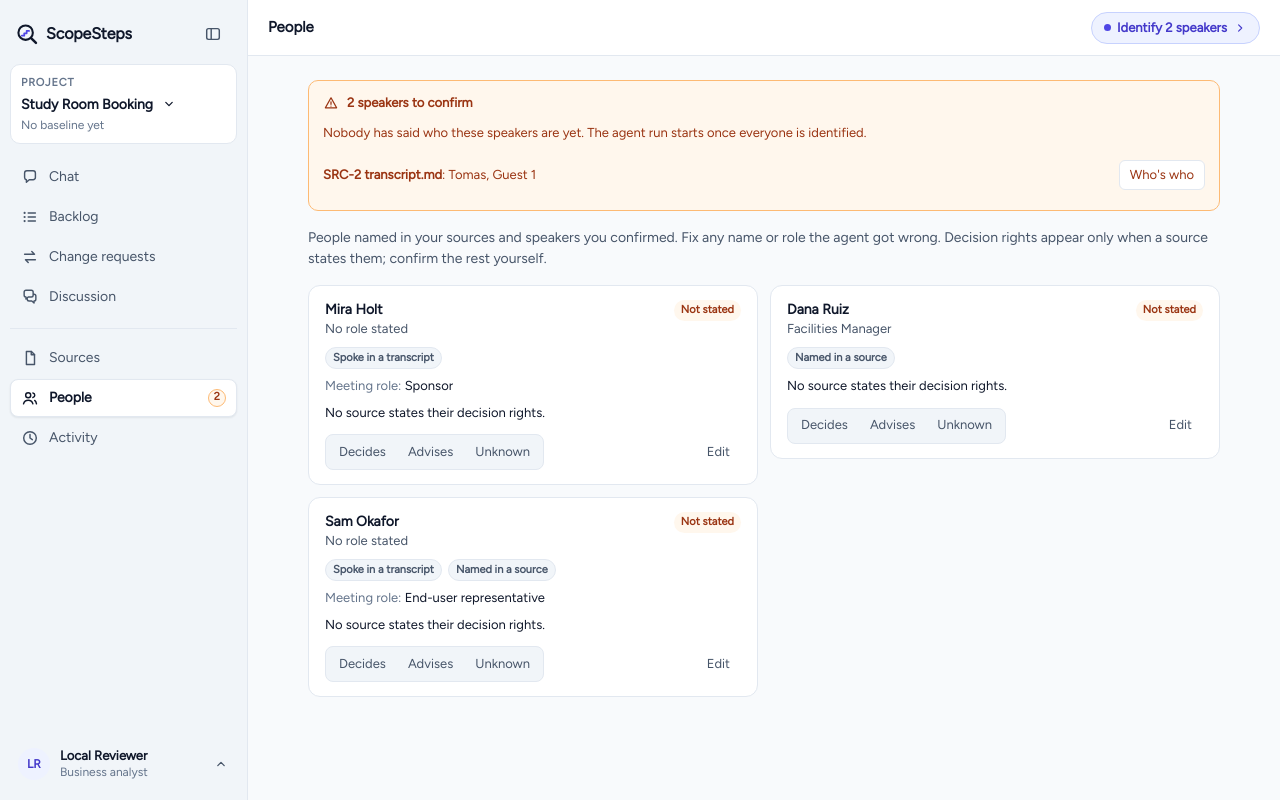
Scenario: People and Sources with transcript speakers › drops the badge once every speaker is confirmed or marked not a person
The width and height of the screenshot is (1280, 800).
Check: the link named "People 2 speakers to confirm" is shown, box [10, 378, 237, 416]
Click the button with aria-label "Who's who in SRC-2 transcript.md".
click(1162, 175)  # box [1119, 160, 1205, 190]
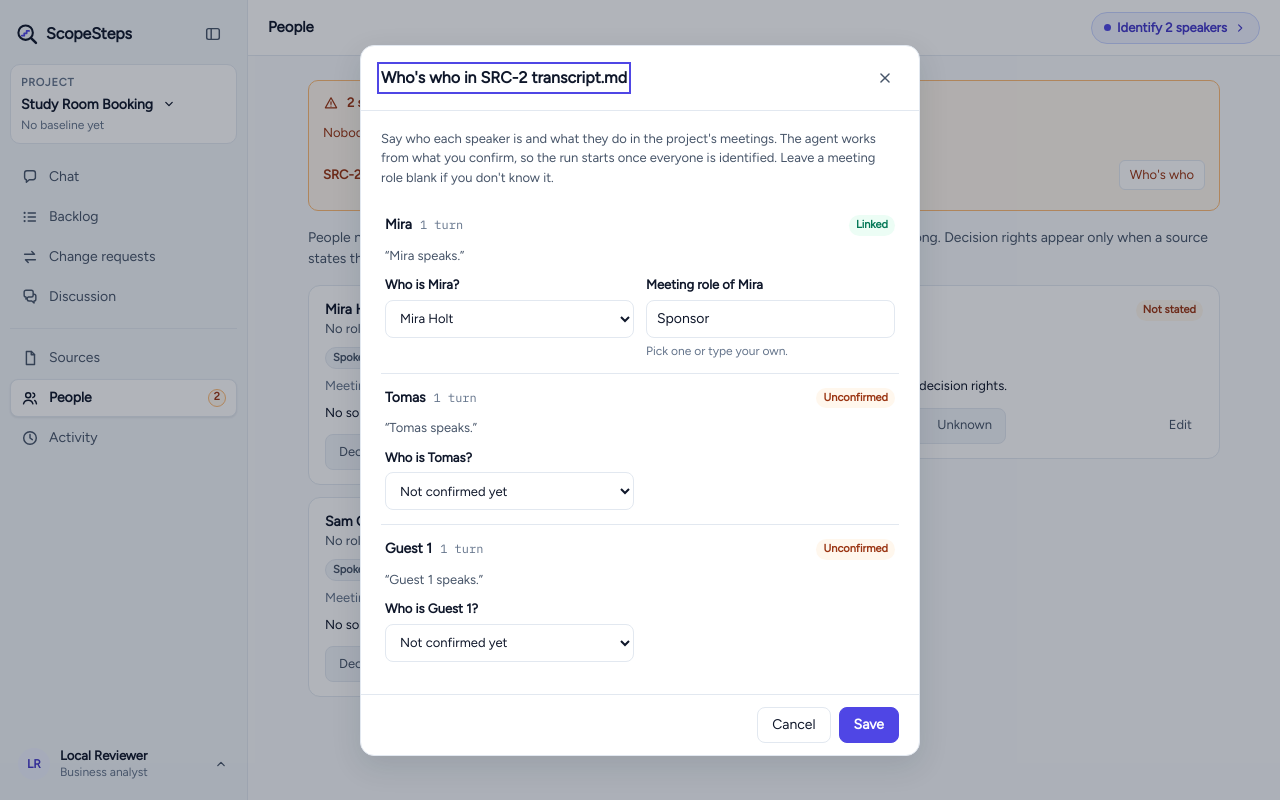
Select "Not a person" in the dropdown labelled "Who is Tomas?" at [510, 491], box [385, 472, 634, 510]
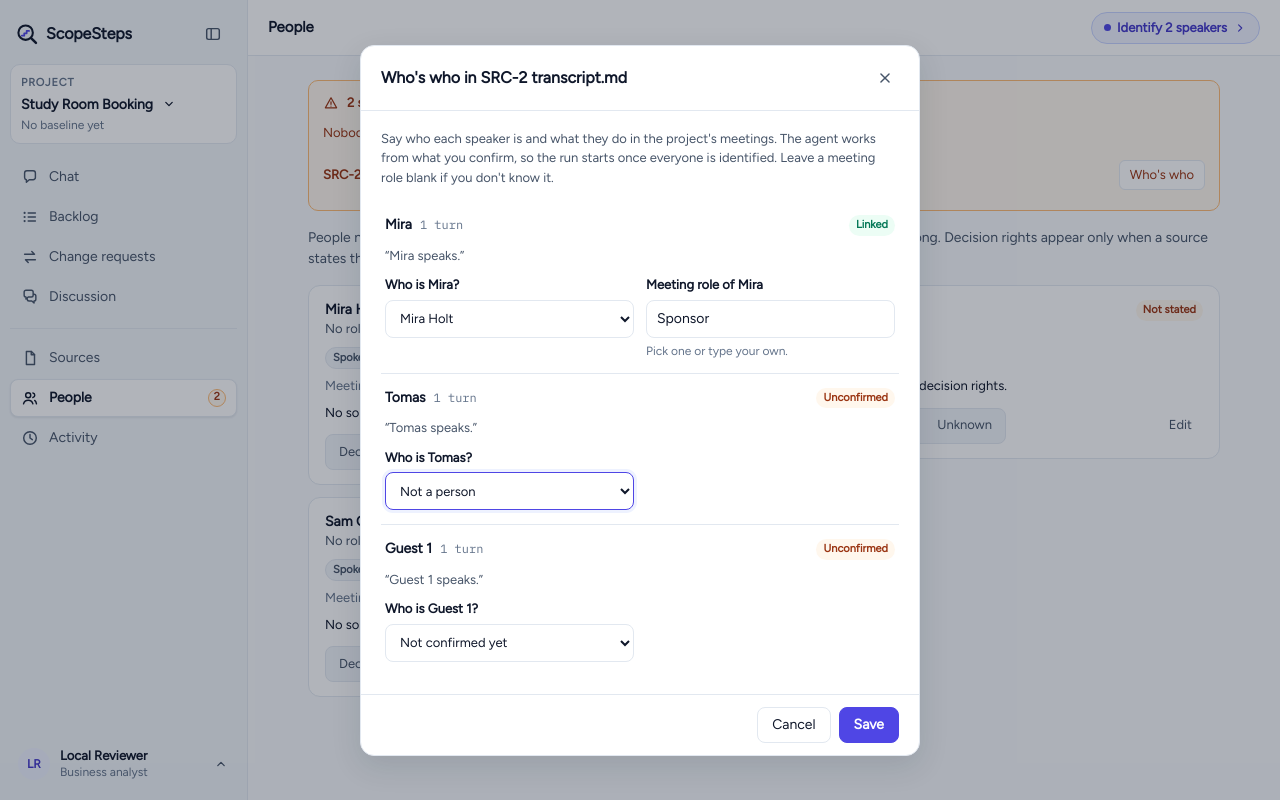
Select "Not a person" in the dropdown labelled "Who is Guest 1?" at [510, 642], box [385, 624, 634, 662]
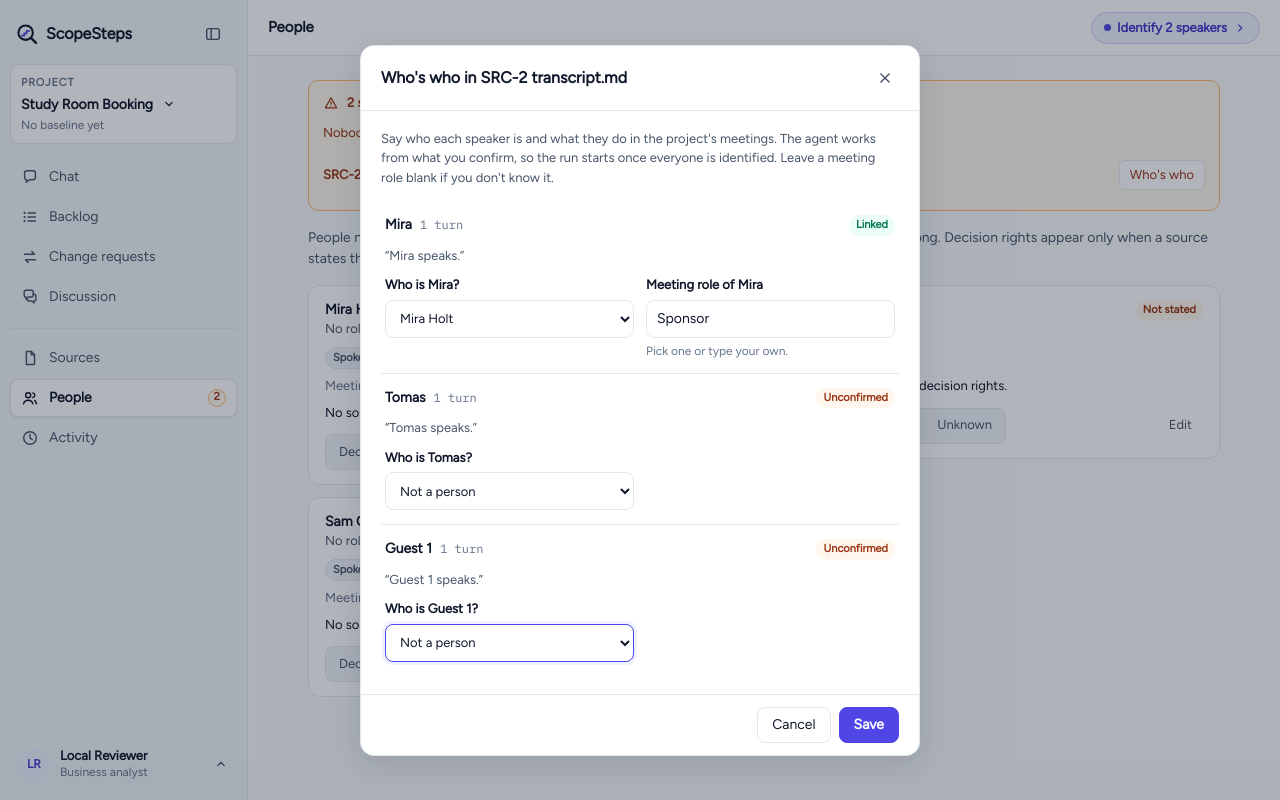
Click the button "Save".
click(869, 724)  # box [839, 706, 899, 742]
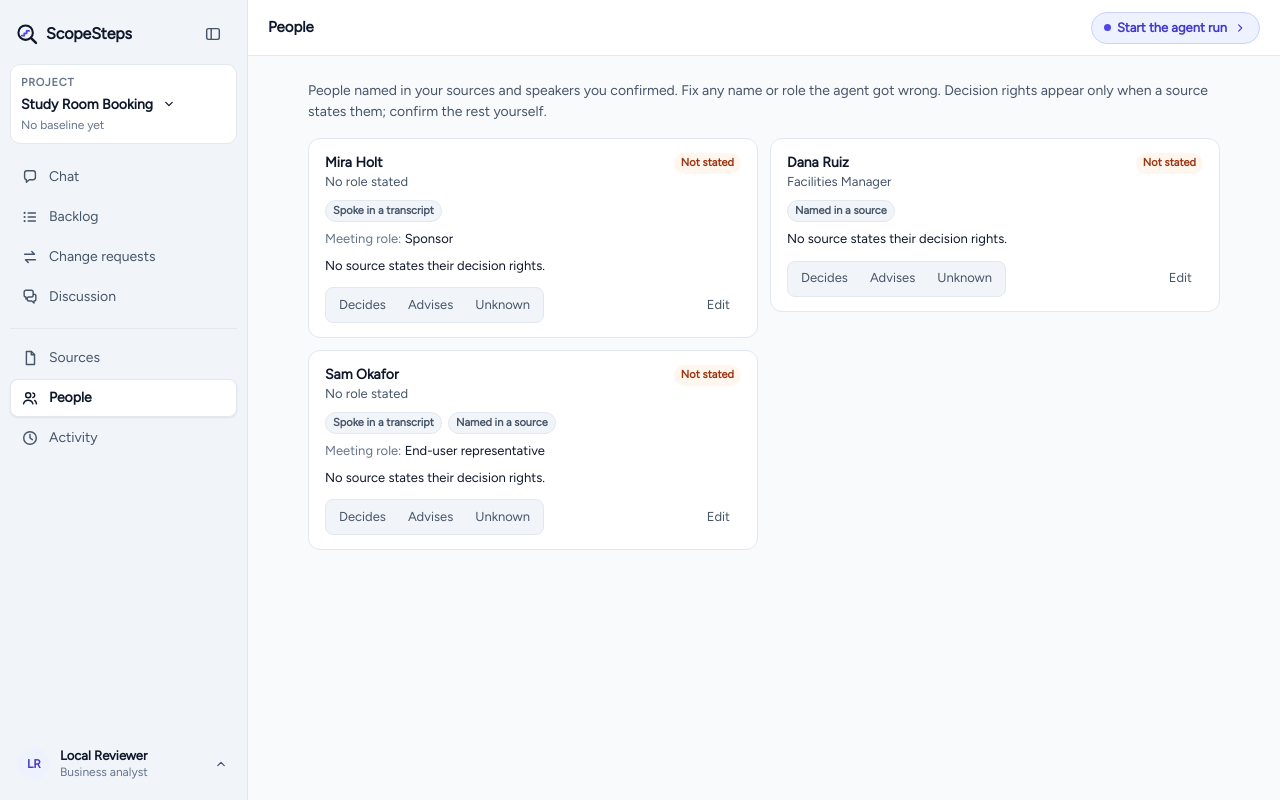
Check: the heading "2 speakers to confirm" is gone
